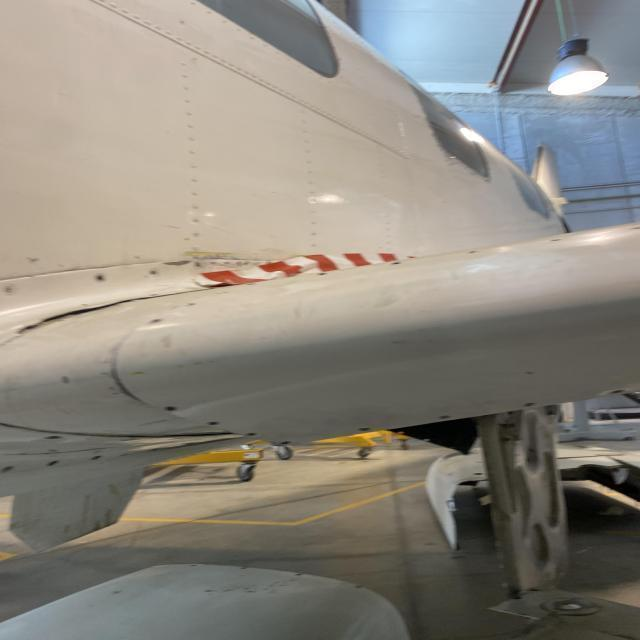Crack: (15, 292, 154, 341)
Missing_Fastener: (436, 413, 460, 423), (522, 398, 539, 410), (278, 440, 298, 448), (208, 419, 222, 429), (166, 404, 177, 412), (361, 426, 372, 434), (248, 432, 260, 439), (48, 460, 60, 467), (48, 436, 62, 441), (92, 454, 102, 461)
